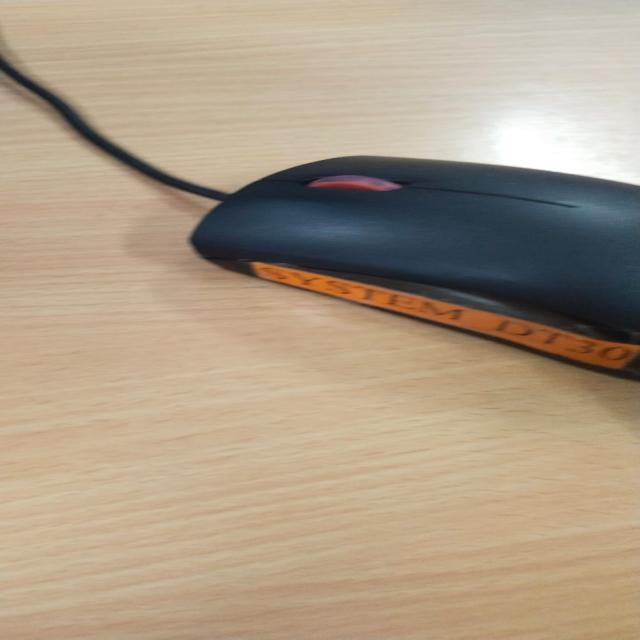mouse: (23, 102, 640, 640), (457, 105, 563, 298)
